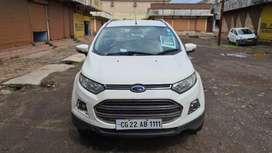CG22AB1111: (116, 118, 161, 129)
